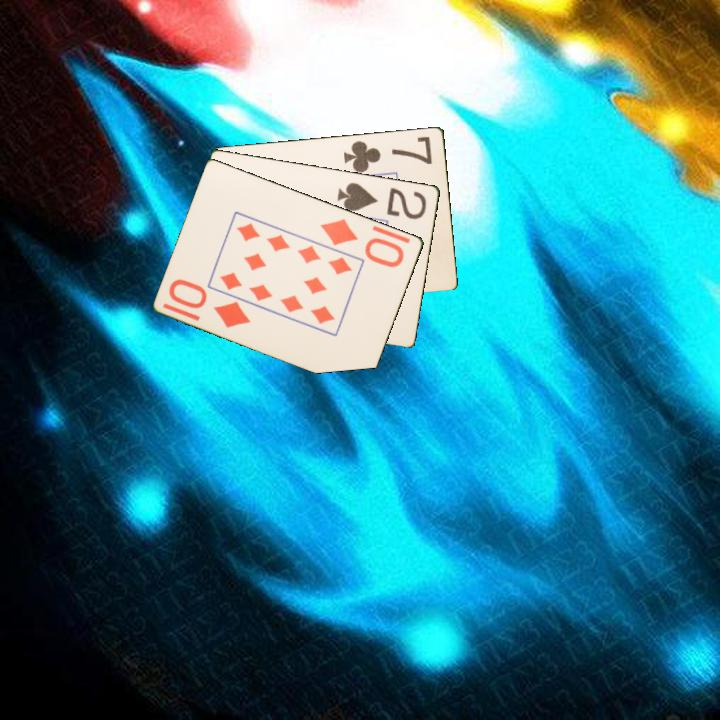10d: (317, 214, 407, 270), (165, 276, 254, 331)
2s: (334, 179, 430, 222)
7c: (340, 133, 435, 175)
